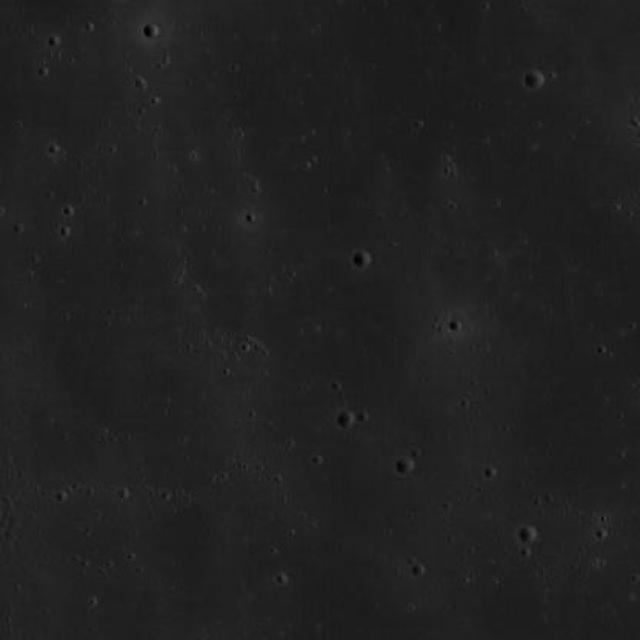crater: (338, 410, 358, 430), (352, 252, 372, 270), (526, 70, 545, 88), (520, 526, 538, 545), (397, 458, 415, 476), (146, 23, 162, 40)
